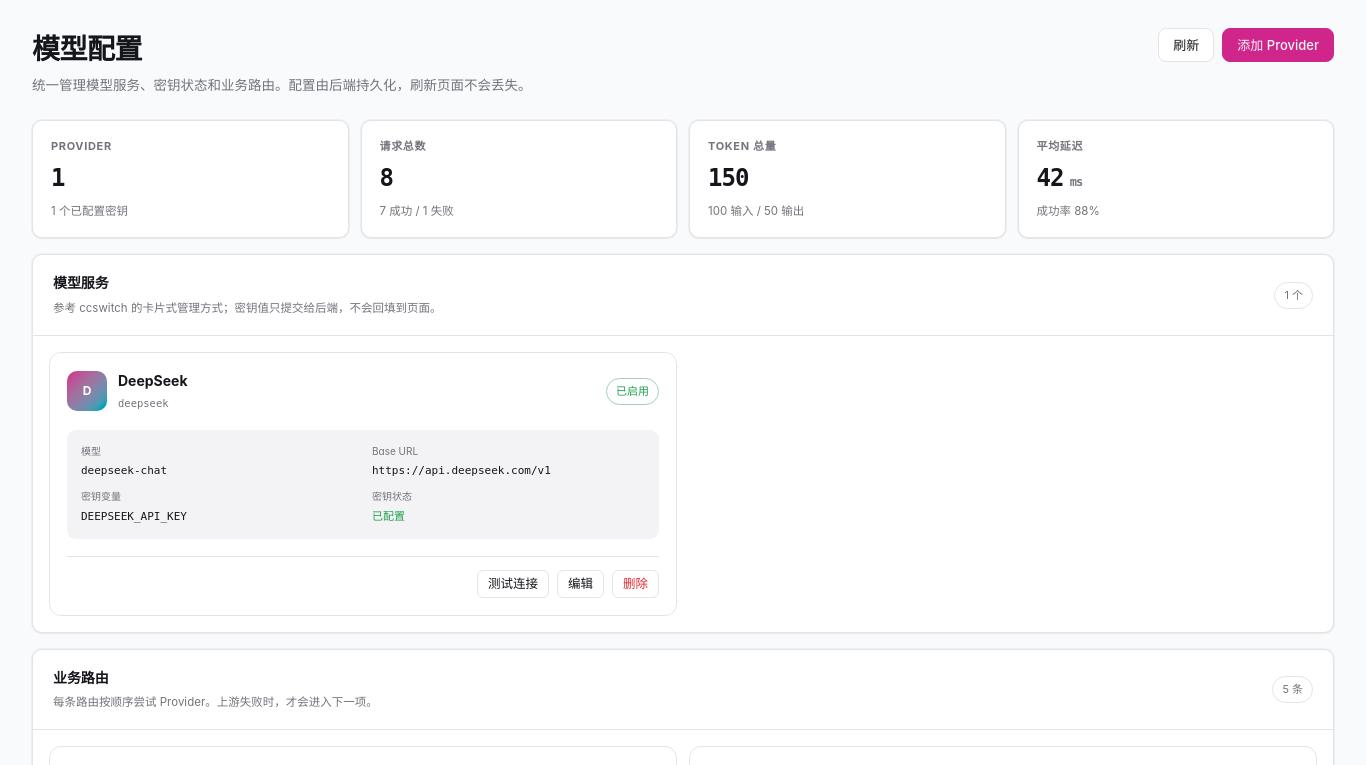
Scenario: ConfigLlm › tests a provider through the backend and never fetches upstream
Step 1. Click the button "测试连接" → (513, 584), box left=477, top=570, right=549, bottom=598
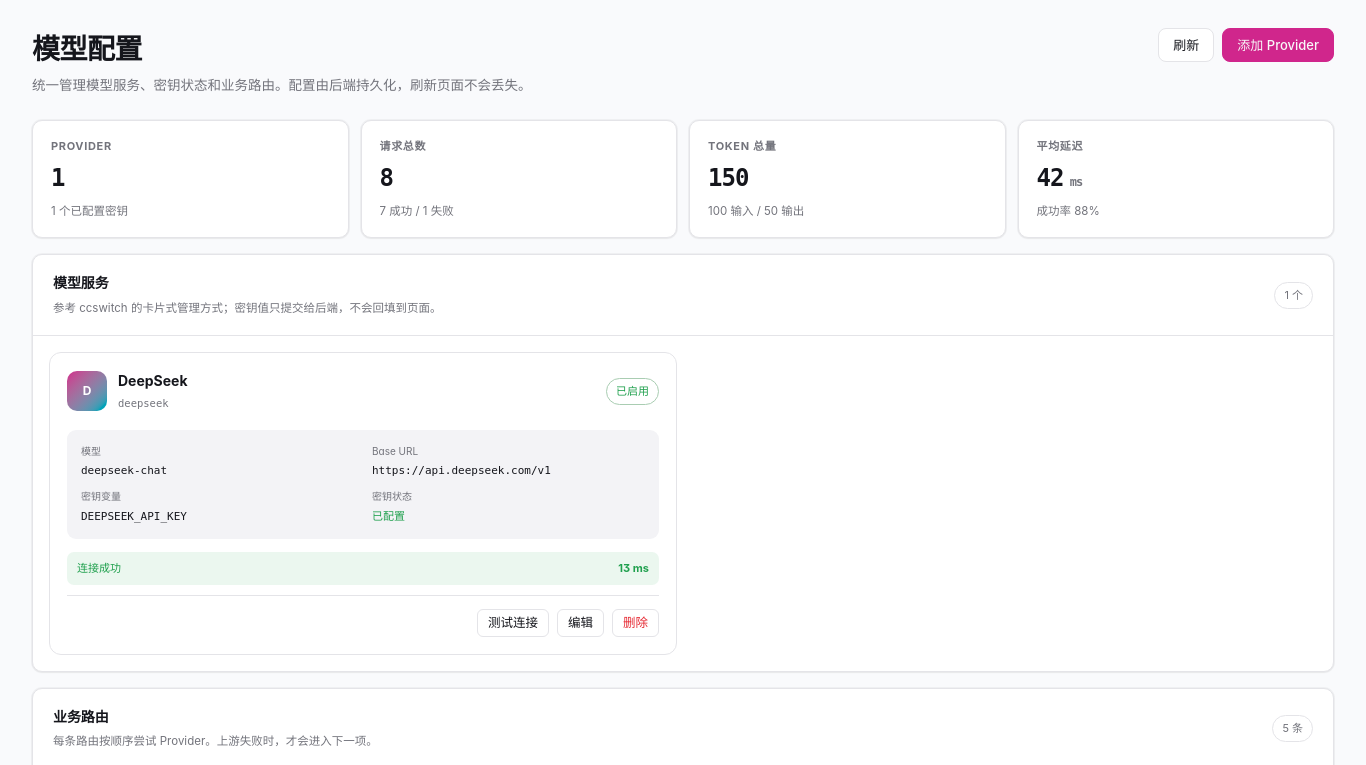
Expected: the text "连接成功" is shown, left=77, top=560, right=121, bottom=577
